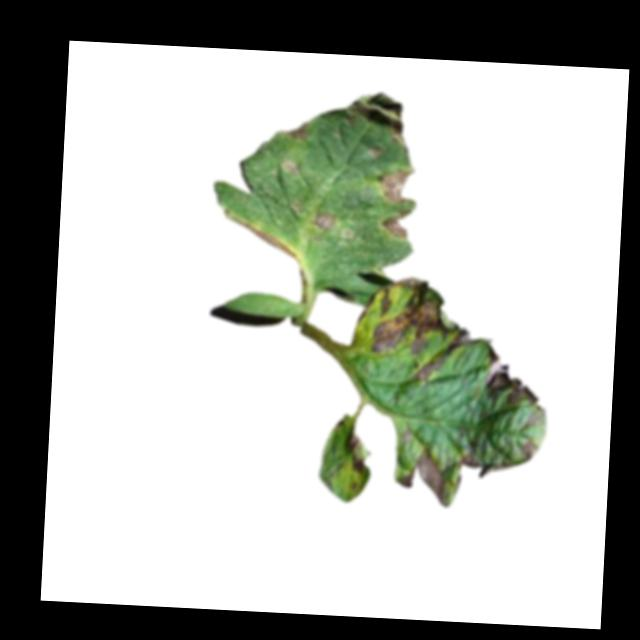Early_blight: (365, 274, 486, 383), (483, 352, 542, 409), (393, 444, 446, 503), (349, 89, 405, 132), (239, 219, 298, 259), (457, 449, 509, 479), (378, 163, 413, 205), (342, 429, 366, 472), (383, 206, 411, 238), (518, 433, 538, 460), (282, 120, 307, 140), (313, 211, 333, 233)
